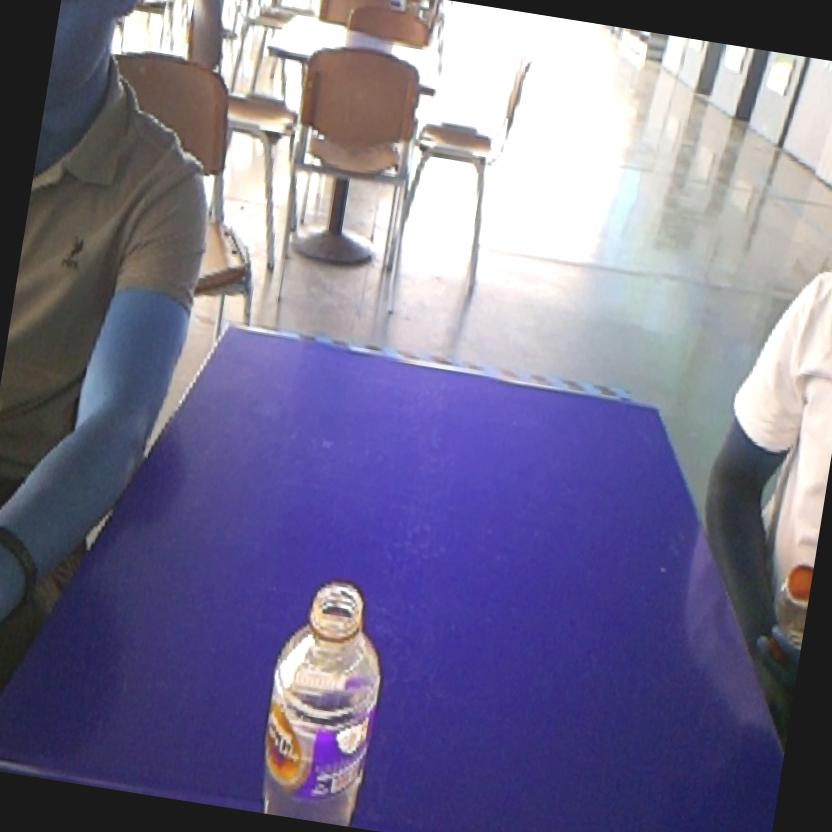no_cap: (237, 557, 406, 828)
